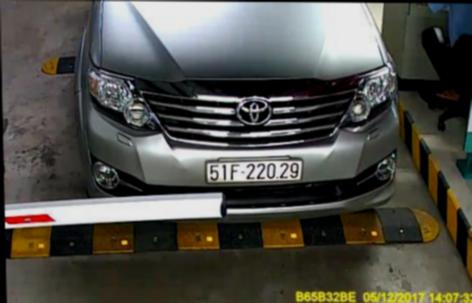License_Plate: (200, 155, 305, 186)
